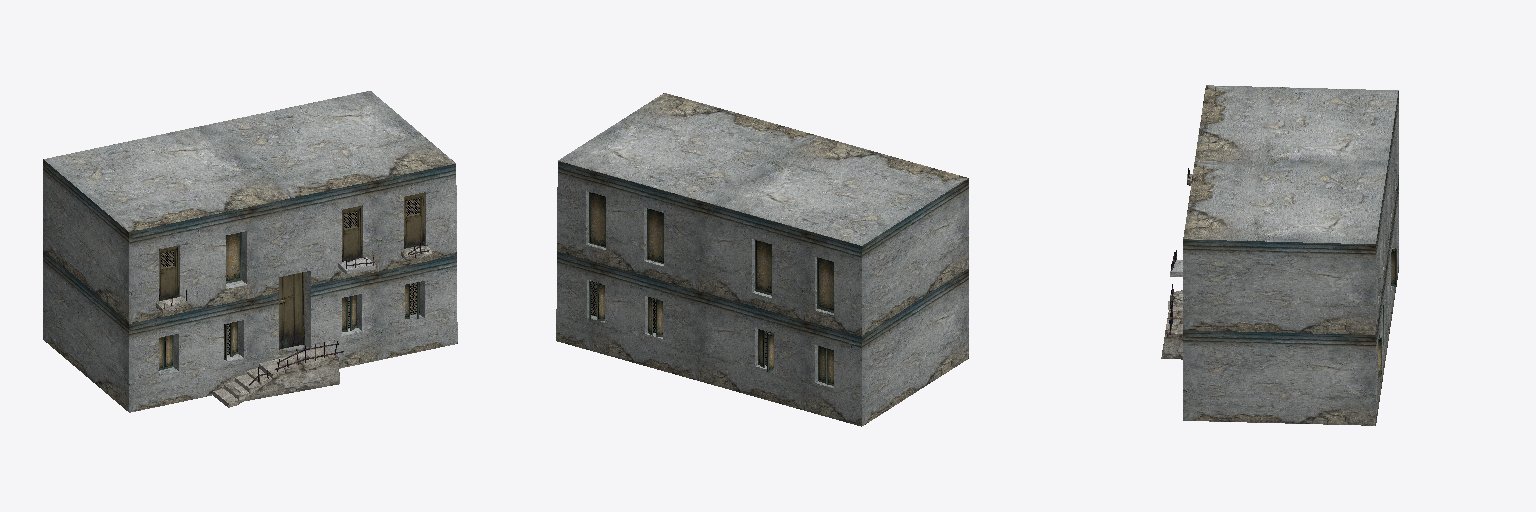
The picture shows the model from 3 angles: view 1: azimuth 30°, elevation 25°; view 2: azimuth 150°, elevation 25°; view 3: azimuth 270°, elevation 25°; orthographic projection.
Size of the model in its own units: 309 by 164 by 194.
6 materials, 6 textured.